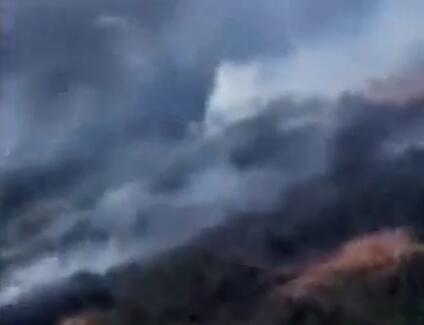smoke: (1, 1, 422, 304)
